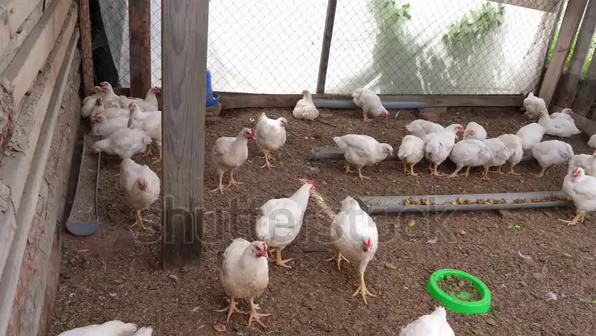Pollos: (255, 181, 314, 237), (334, 197, 379, 266), (223, 237, 272, 300), (116, 158, 159, 210), (212, 126, 257, 173), (331, 132, 393, 166), (92, 128, 150, 158), (426, 122, 463, 163), (566, 168, 596, 213), (352, 88, 390, 120), (532, 139, 576, 165), (258, 114, 287, 146), (492, 133, 521, 165), (291, 90, 320, 118), (547, 106, 577, 133), (96, 81, 125, 107), (400, 133, 422, 165), (91, 111, 128, 129), (129, 103, 157, 126), (463, 119, 486, 139), (525, 91, 543, 113), (144, 83, 161, 100)
